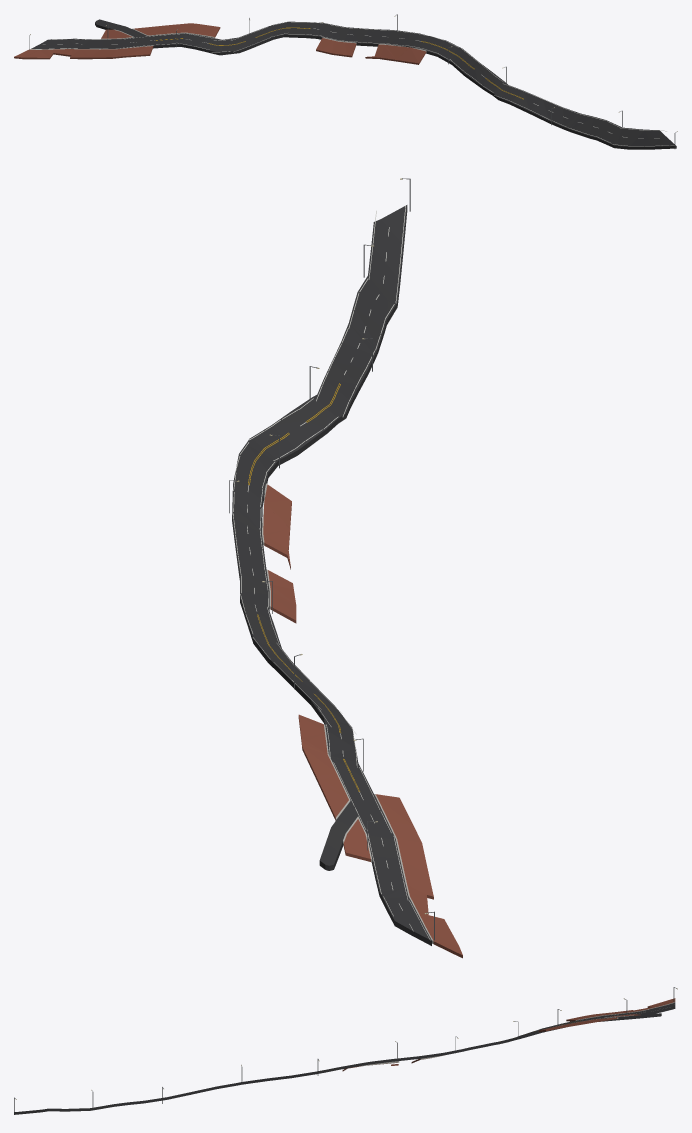
3 renders of one model, top to bottom at view 1: azimuth 30°, elevation 25°; view 2: azimuth 150°, elevation 25°; view 3: azimuth 270°, elevation 25°, orthographic. The views are drawn at different scales.
Size of the model in its own units: 168 by 36.96 by 265.
